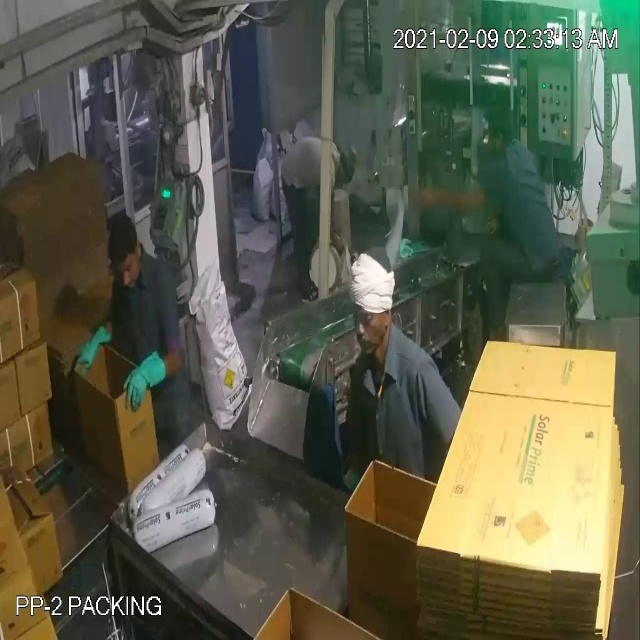Guantes: (121, 340, 168, 420), (68, 308, 114, 380)
Sin_guantes: (395, 176, 492, 230)
